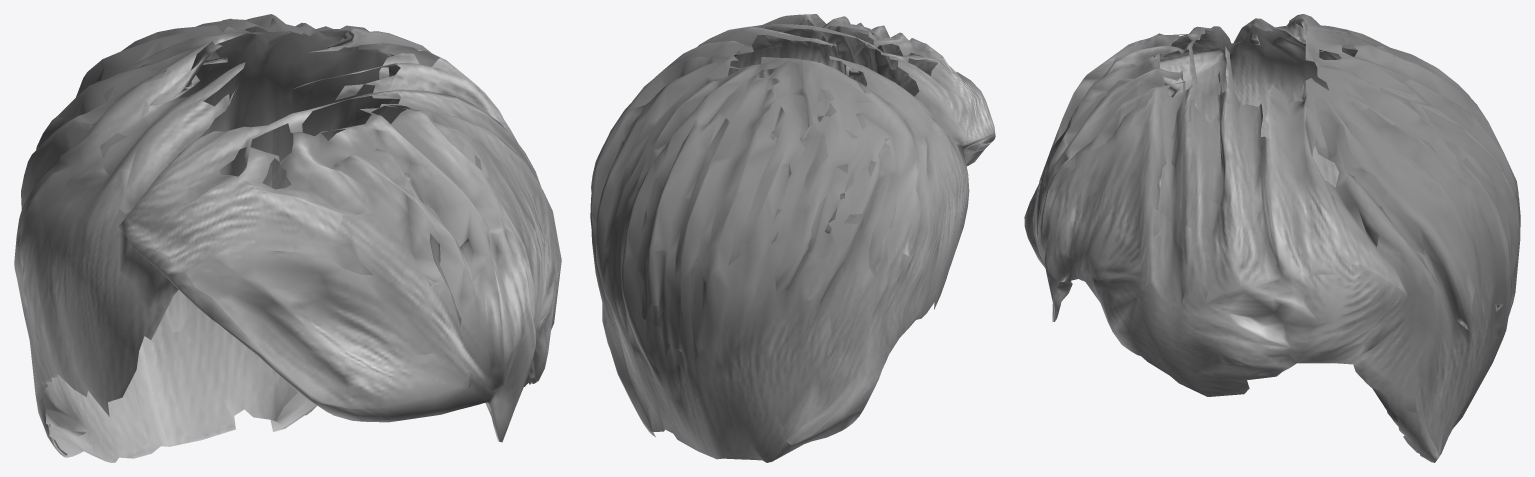
Rendered from slick-back.glb.
The picture shows the model from 3 angles, left to right: view 1: azimuth 30°, elevation 25°; view 2: azimuth 150°, elevation 25°; view 3: azimuth 270°, elevation 25°; orthographic projection. The views are drawn at different scales.
Visible parts, largest first — view 1: slick-back; view 2: slick-back; view 3: slick-back.
Part boxes in pixels (x1,y1,x2,y2): slick-back: (14, 14, 561, 462); slick-back: (590, 14, 995, 462); slick-back: (1024, 14, 1520, 462).
Size of the model in its own units: 0.19 by 0.1971 by 0.229.
Materials: 1 (1 with a texture image).
